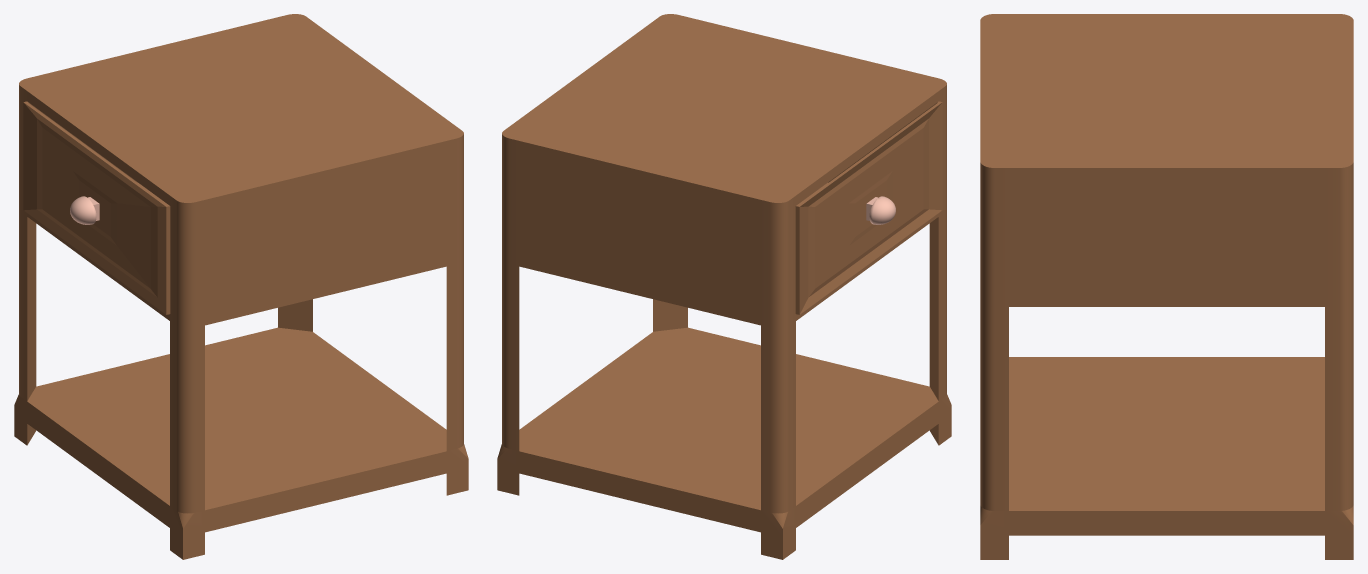
Rendered from BedsideTable.fbx.
3 views of the same model, side by side, from view 1: azimuth 30°, elevation 25°; view 2: azimuth 150°, elevation 25°; view 3: azimuth 270°, elevation 25° (orthographic). The views are drawn at different scales.
Visible parts, largest first — view 1: Cube.027, Cube.029; view 2: Cube.027, Cube.029; view 3: Cube.027.
Boxes of the visible parts, bbox=[...] form: Cube.027: bbox=[14, 14, 468, 559]; Cube.029: bbox=[23, 101, 170, 314]; Cube.027: bbox=[497, 14, 951, 559]; Cube.029: bbox=[795, 101, 942, 314]; Cube.027: bbox=[980, 14, 1353, 559].
Size of the model in its own units: 60.75 by 66 by 56.97.
